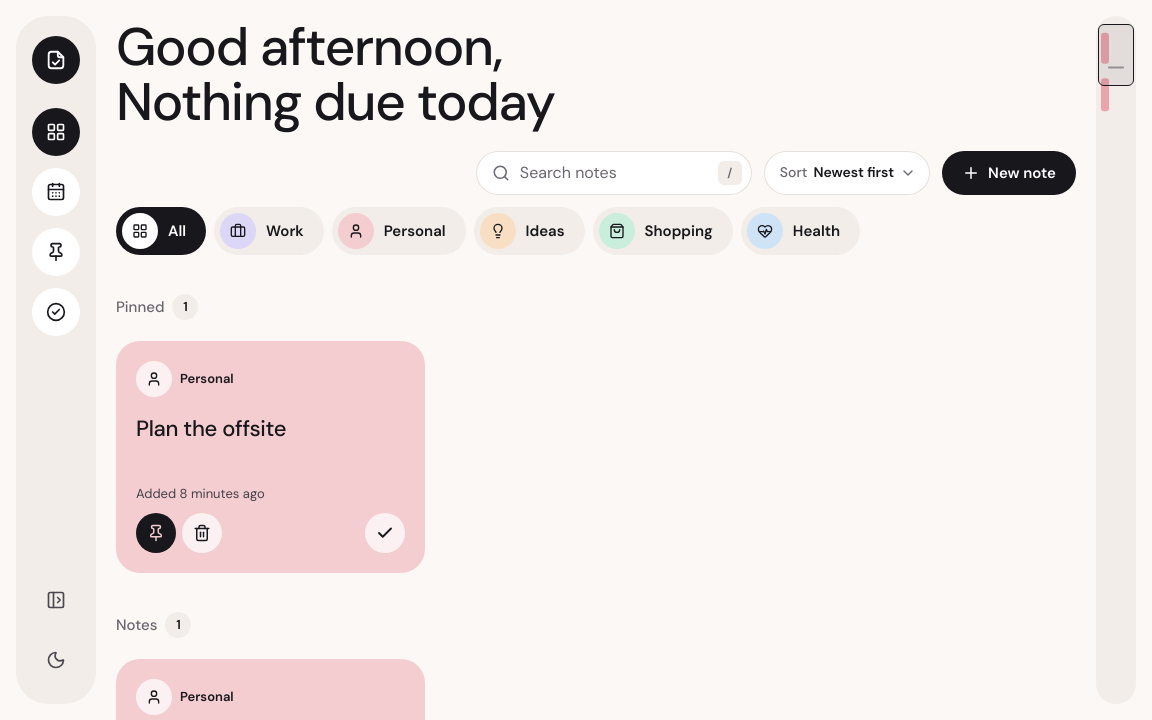
Test case: Notes dashboard › narrows the cards as you search, and says when nothing matches
Type "BASIL" into the search field labelled "Search notes" at (614, 173), box [520,151,708,195]
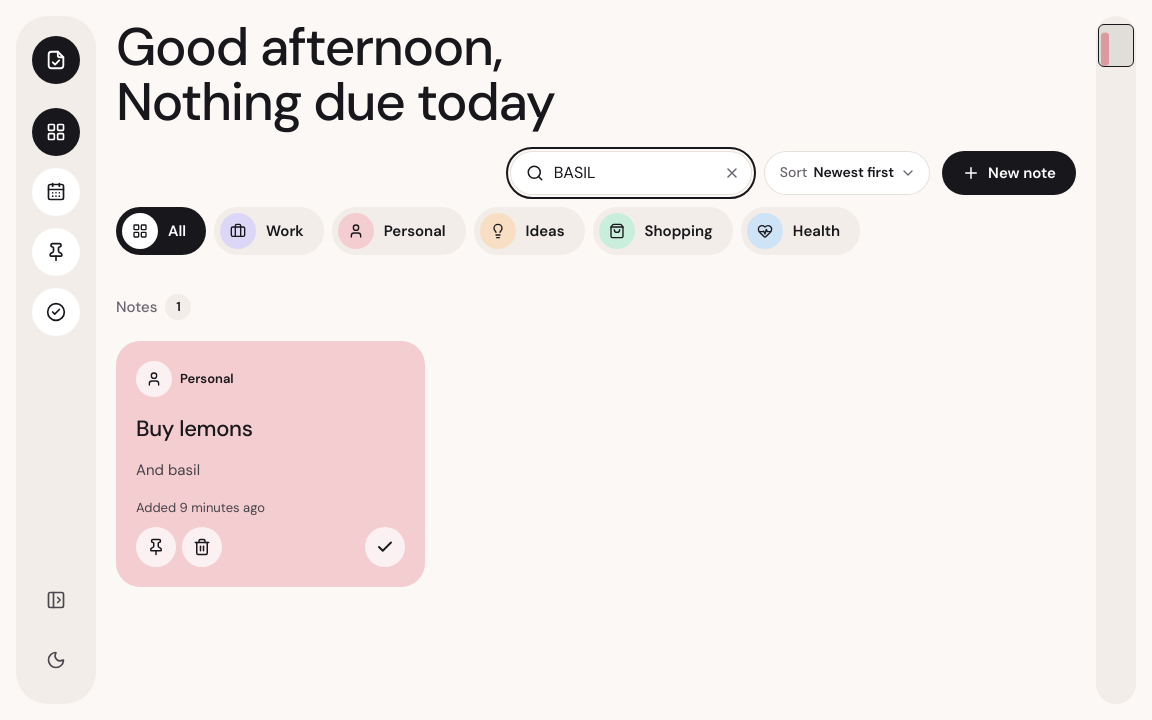
Expected: the element "Buy lemons" is shown, [116,341,425,587]
Now the button "Plan the offsite" is gone
Type "zzz" into the search field named "Search notes" at (648, 173), box [554,151,742,195]
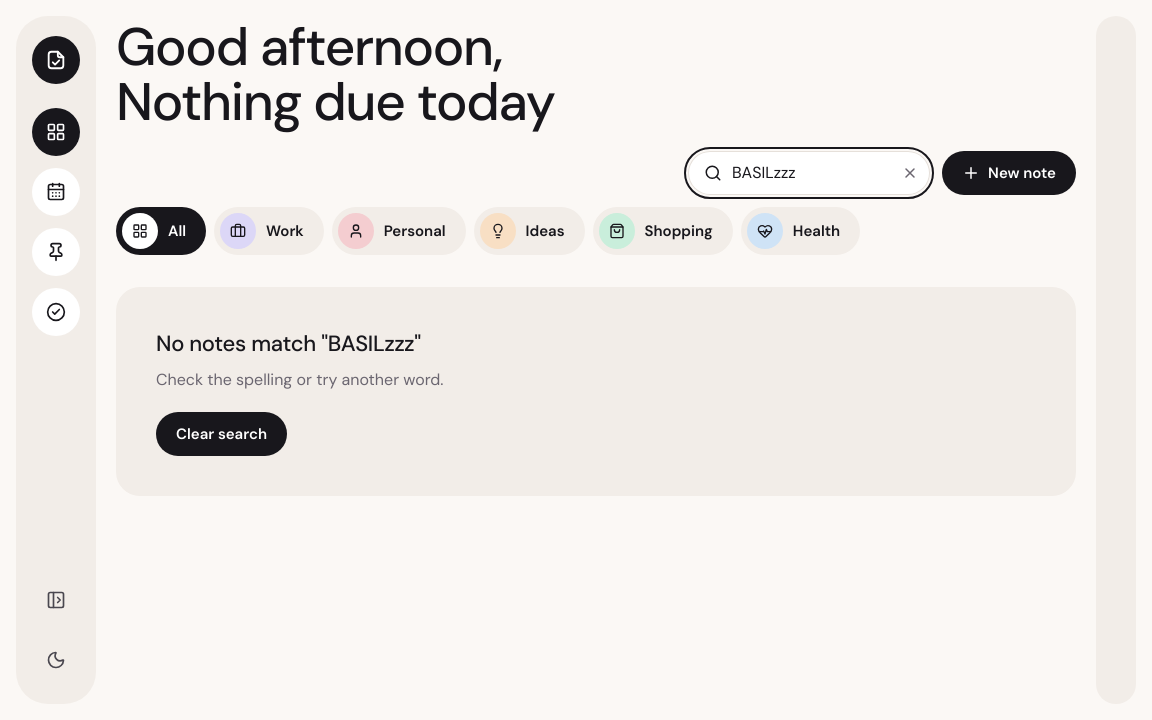
Click the button "Clear search" at (222, 434), box [156,412,287,456]
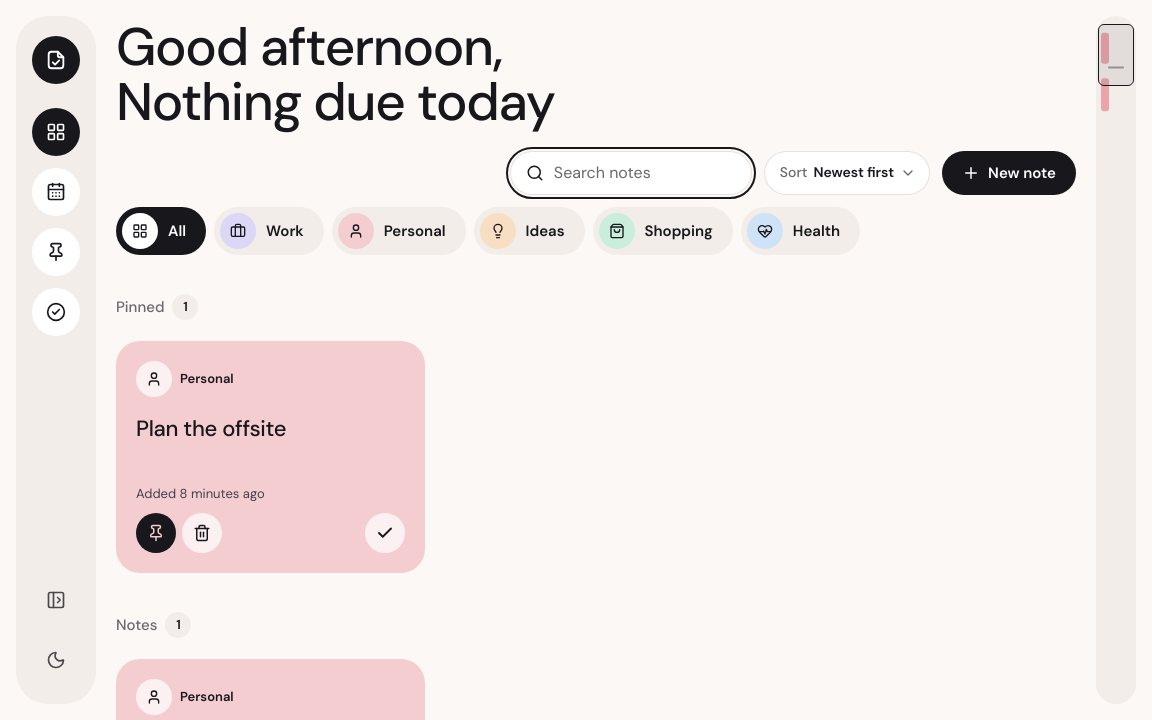
Now the element "Plan the offsite" is shown, box [116,341,425,573]
Now the search field labelled "Search notes" is empty, box [554,151,742,195]
